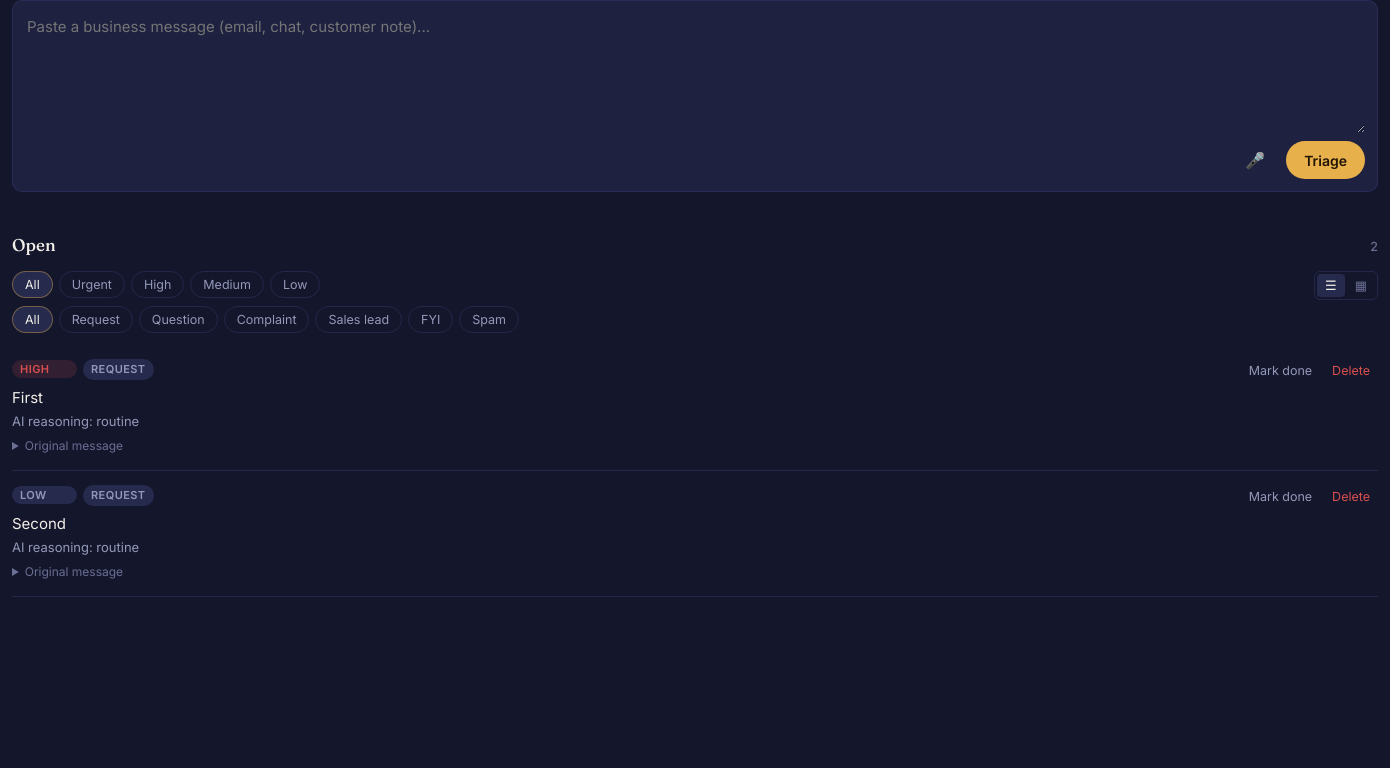
it: BusinessTab › overriding priority PATCHes, re-sorts, and shows the edited marker
The width and height of the screenshot is (1390, 768).
Select "urgent" in the 2nd dropdown named "Priority" at (44, 495), box x1=12 y1=486 x2=77 y2=504
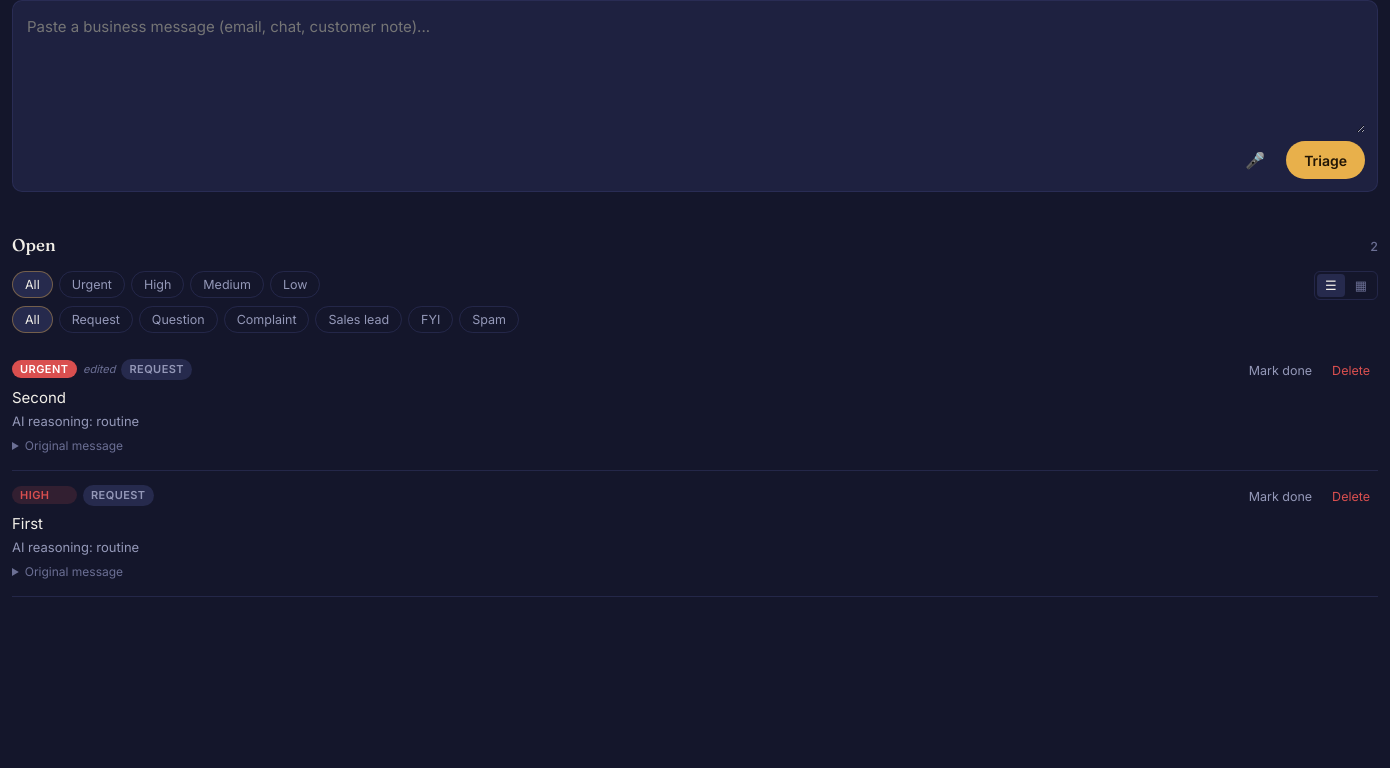
Expected: the elements with test id "message-summary" read "Second", "First", in this order, x1=12 y1=388 x2=66 y2=407; x1=12 y1=514 x2=43 y2=533
Expected: the text "edited" is shown, x1=83 y1=361 x2=116 y2=378
